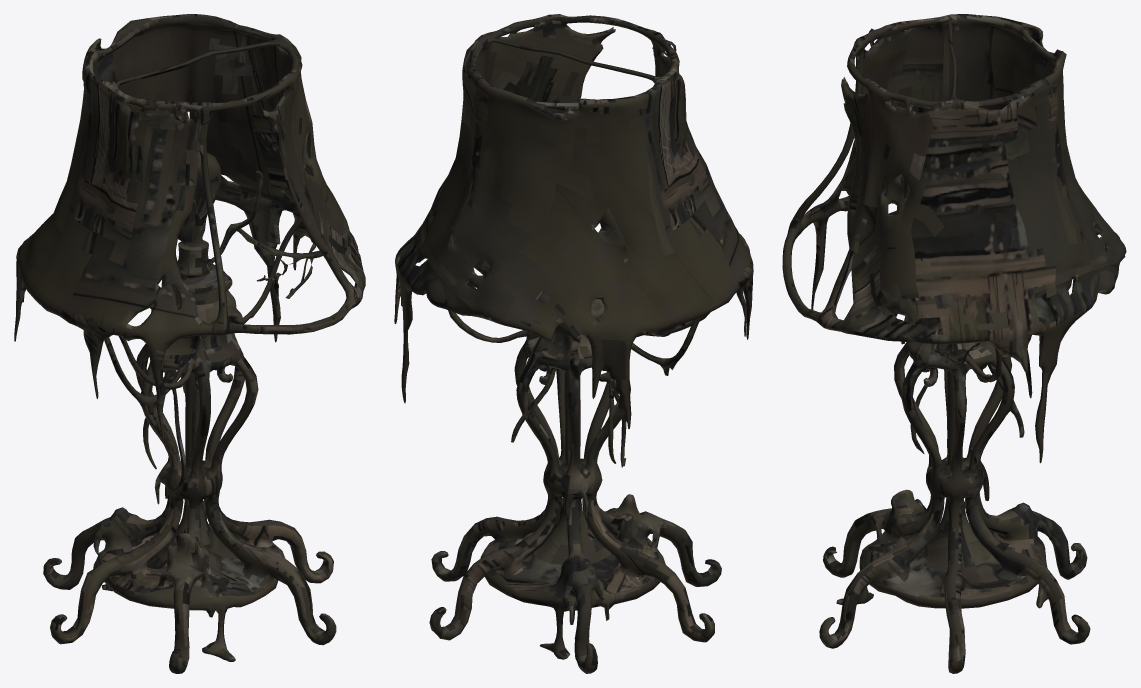
File: tripo_convert_51767c66-2132-4eba-b7e8-f606867a5a0f.fbx
3 views of the same model, side by side, from view 1: azimuth 30°, elevation 25°; view 2: azimuth 150°, elevation 25°; view 3: azimuth 270°, elevation 25° (orthographic).
Parts seen in each view (by area): view 1: tripo_node_51767c66; view 2: tripo_node_51767c66; view 3: tripo_node_51767c66.
Boxes of the visible parts, box(x1,y1,x2,y2) form: tripo_node_51767c66: box(14, 14, 365, 673); tripo_node_51767c66: box(394, 14, 753, 673); tripo_node_51767c66: box(782, 14, 1126, 673).
Size of the model in its own units: 55.39 by 54.18 by 97.61.
